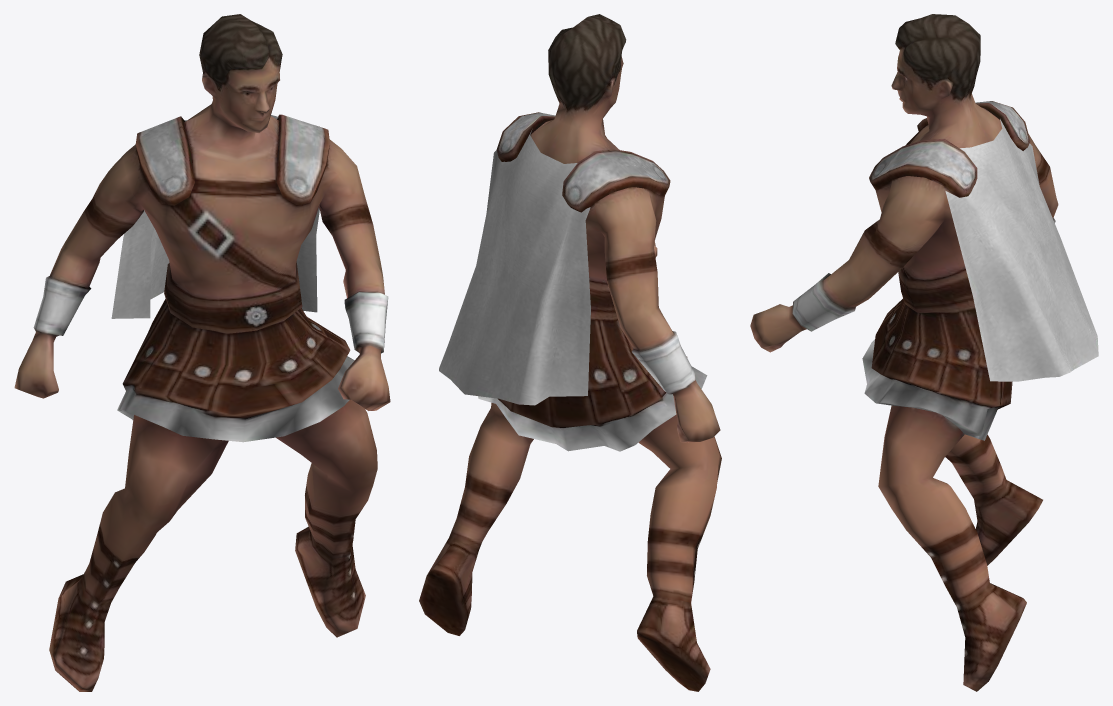
File: rider-slice-base.glb
The picture shows the model from 3 angles, left to right: view 1: azimuth 30°, elevation 25°; view 2: azimuth 150°, elevation 25°; view 3: azimuth 270°, elevation 25°; orthographic projection. The views are drawn at different scales.
Size of the model in its own units: 1.08 by 2.09 by 1.07.
Materials: 1 (1 with a texture image).
